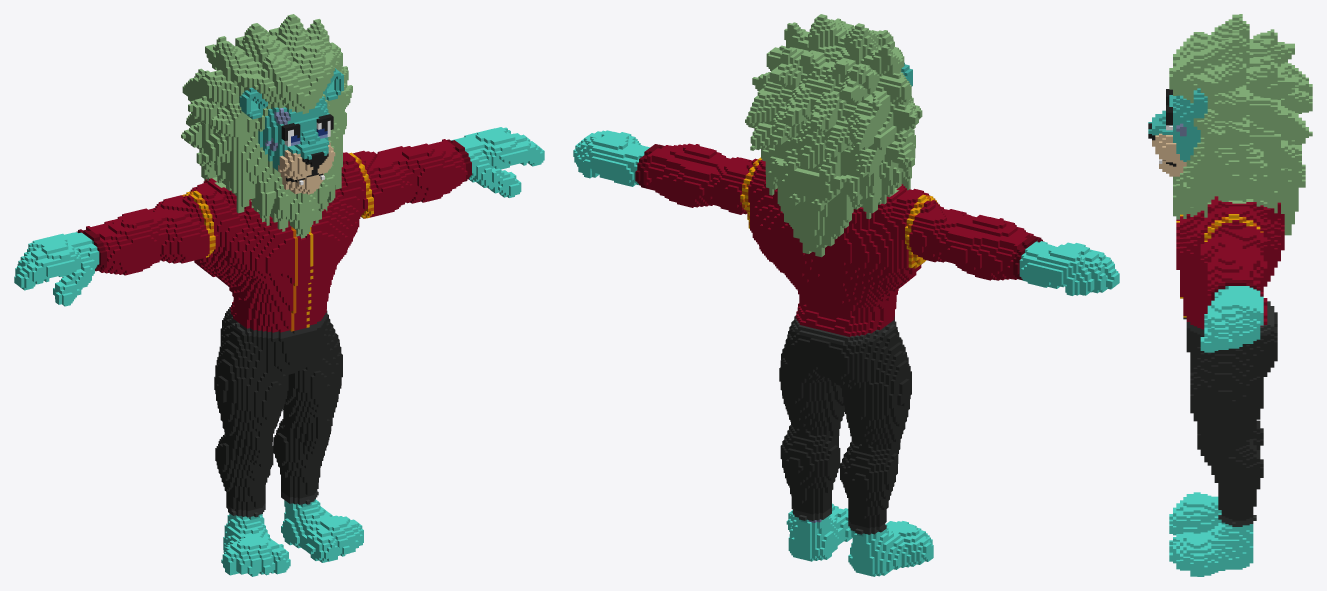
Rendered from 904-HoMg8zY-.fbx.
3 views of the same model, side by side, from view 1: azimuth 30°, elevation 25°; view 2: azimuth 150°, elevation 25°; view 3: azimuth 270°, elevation 25° (orthographic). The views are drawn at different scales.
Parts seen in each view (by area): view 1: standard; view 2: standard; view 3: standard.
Boxes of the visible parts, left/top/right/bottom form: standard: left=14, top=14, right=544, bottom=576; standard: left=573, top=14, right=1119, bottom=576; standard: left=1148, top=14, right=1312, bottom=576.
Bounding box in the file's own units: 17.2 × 16.5 × 4.7.
Materials: 5 (5 with a texture image).
